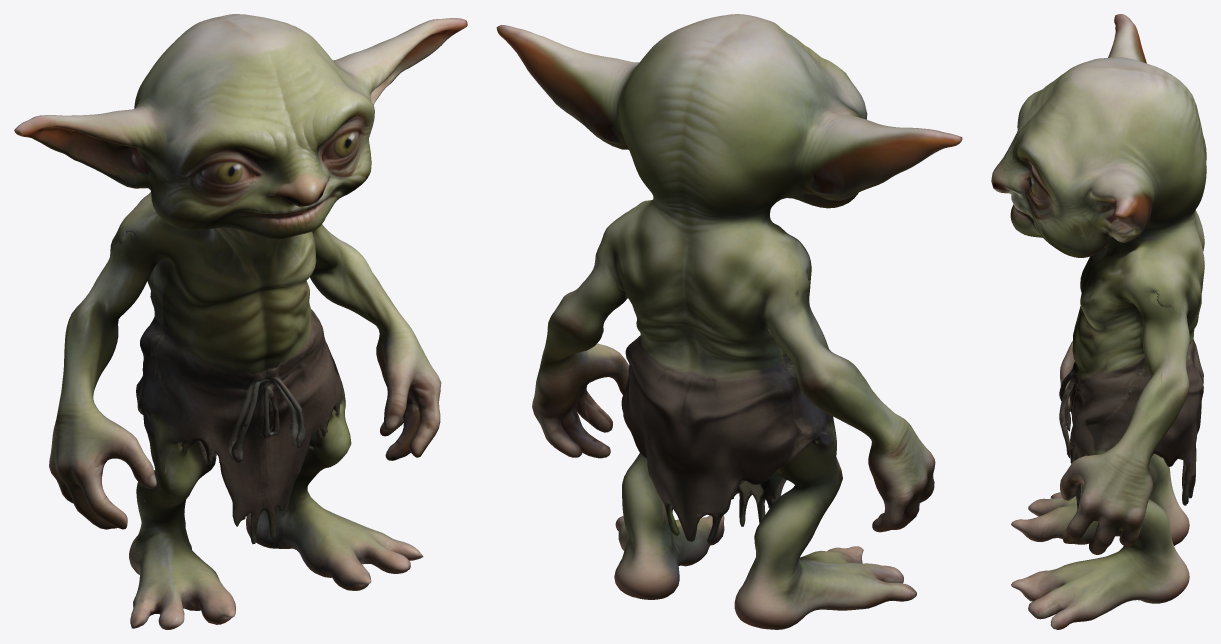
The model's file is ultra-realistic-goblin.fbx.
The picture shows the model from 3 angles, left to right: view 1: azimuth 30°, elevation 25°; view 2: azimuth 150°, elevation 25°; view 3: azimuth 270°, elevation 25°; orthographic projection. The views are drawn at different scales.
Parts seen in each view (by area): view 1: node_59010f55_7aaf_4808_b1bd_b402d48f46de_mesh0; view 2: node_59010f55_7aaf_4808_b1bd_b402d48f46de_mesh0; view 3: node_59010f55_7aaf_4808_b1bd_b402d48f46de_mesh0.
Part boxes in pixels (x1,y1,x2,y2): node_59010f55_7aaf_4808_b1bd_b402d48f46de_mesh0: [14, 14, 467, 629]; node_59010f55_7aaf_4808_b1bd_b402d48f46de_mesh0: [496, 14, 962, 629]; node_59010f55_7aaf_4808_b1bd_b402d48f46de_mesh0: [991, 14, 1206, 629].
Size of the model in its own units: 169 by 196 by 75.99.
Materials: 1 (1 with a texture image).
